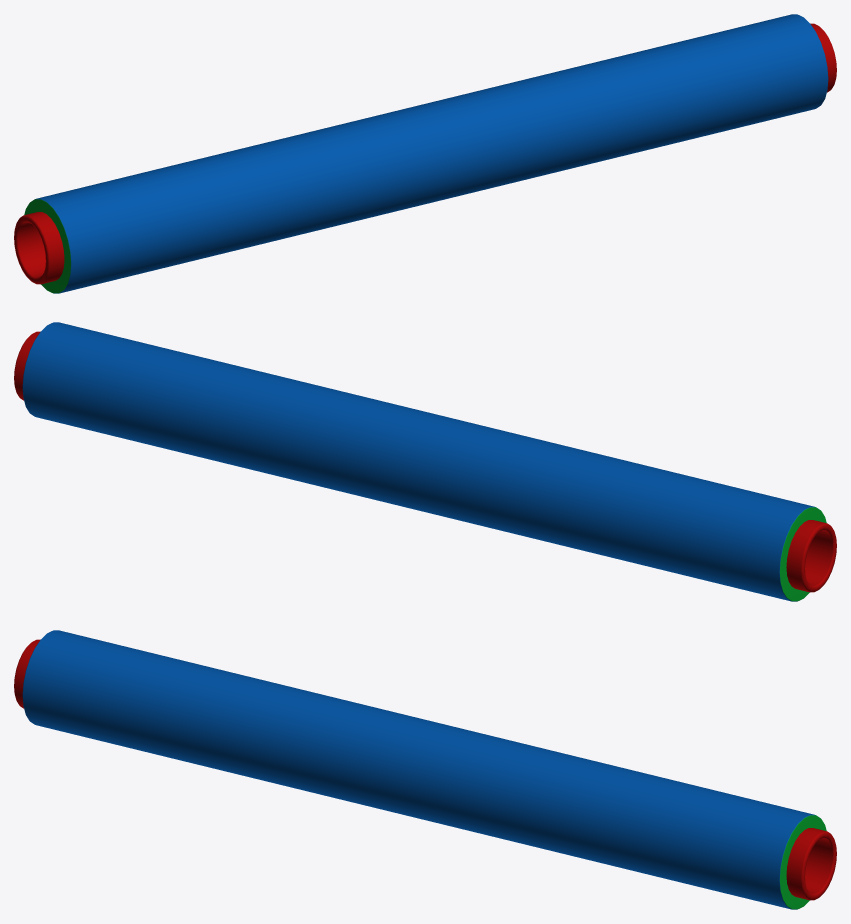
Rendered from SM_roll_6.fbx.
3 views of the same model, one above another, from view 1: azimuth 30°, elevation 25°; view 2: azimuth 150°, elevation 25°; view 3: azimuth 330°, elevation 25° (orthographic).
Visible parts, largest first — view 1: SM_roll_6; view 2: SM_roll_6; view 3: SM_roll_6.
Boxes of the visible parts, x1,y1,x2,y2 form: SM_roll_6: (14,14,836,293); SM_roll_6: (14,322,836,601); SM_roll_6: (14,630,836,909).
Bounding box in the file's own units: 1.21 × 0.1296 × 0.1296.
